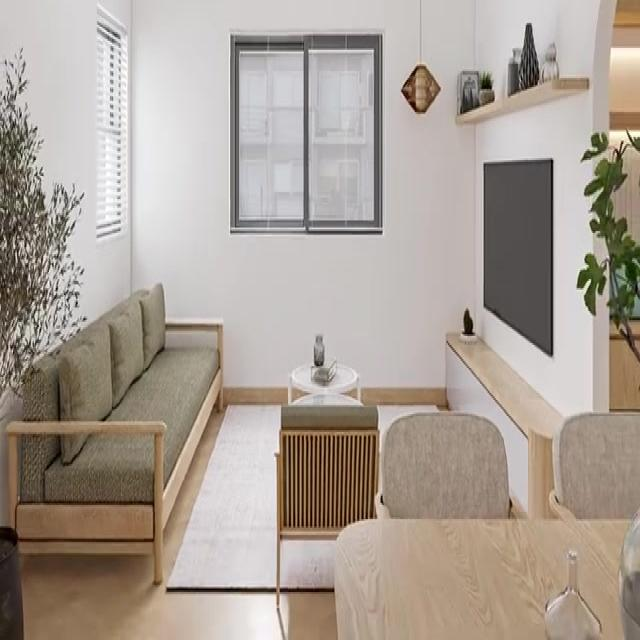obstacle: (6, 281, 223, 583), (333, 516, 637, 638), (276, 406, 383, 607), (374, 411, 527, 519), (548, 411, 639, 521)
